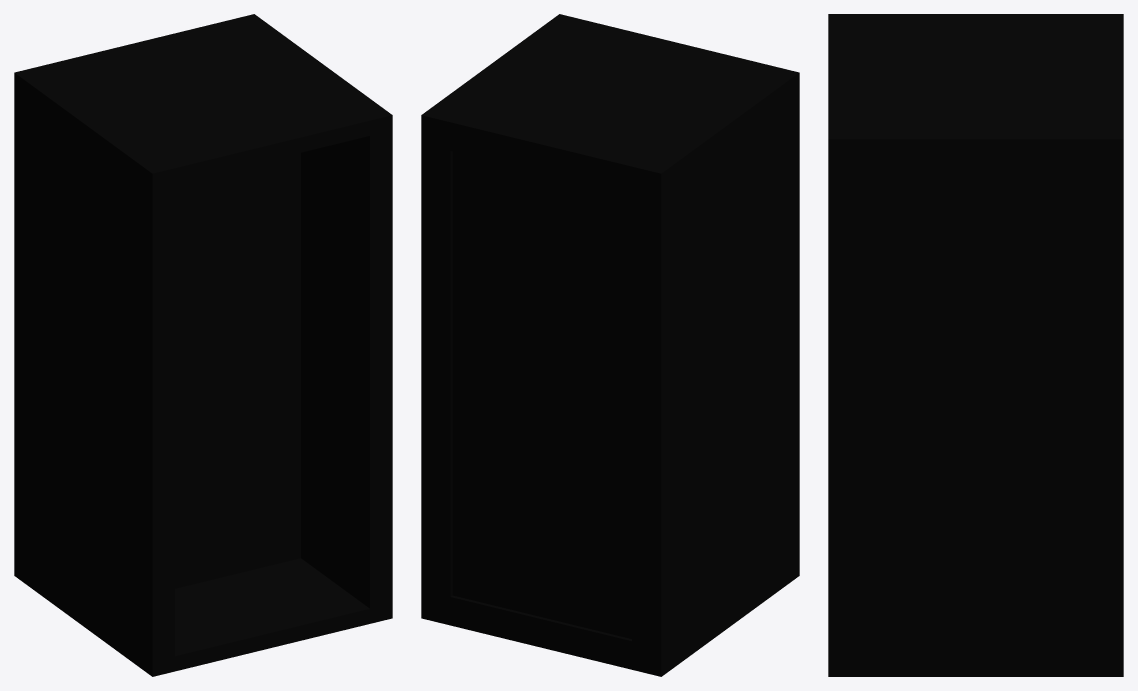
Rendered from cursor.obj.
3 views of the same model, side by side, from view 1: azimuth 30°, elevation 25°; view 2: azimuth 150°, elevation 25°; view 3: azimuth 270°, elevation 25° (orthographic). The views are drawn at different scales.
Parts seen in each view (by area): view 1: 立方体.001; view 2: 立方体.001; view 3: 立方体.001.
Boxes of the visible parts, box(x1,y1,x2,y2) form: 立方体.001: box(14, 14, 392, 676); 立方体.001: box(421, 14, 799, 676); 立方体.001: box(828, 14, 1123, 676).
Size of the model in its own units: 25.01 by 50.09 by 24.94.
1 material, 1 textured.
